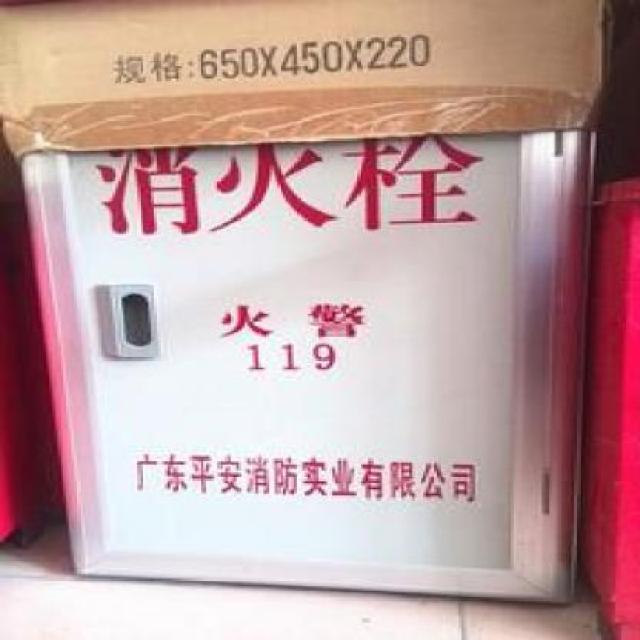firehydrant: (16, 79, 596, 612)
